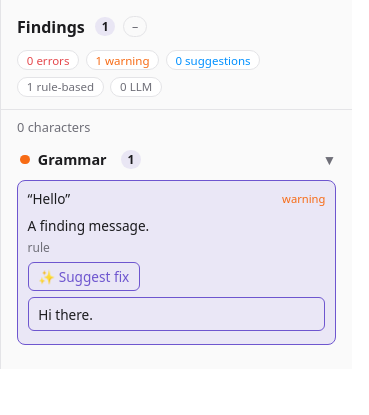
Test: Sidebar surfaces embed replacement failures (B43 C1) › a refused rewrite apply renders embedReplaceFailed instead
The width and height of the screenshot is (369, 415).
Click the button "Hi there." at (66, 314), box [28,297,325,331]
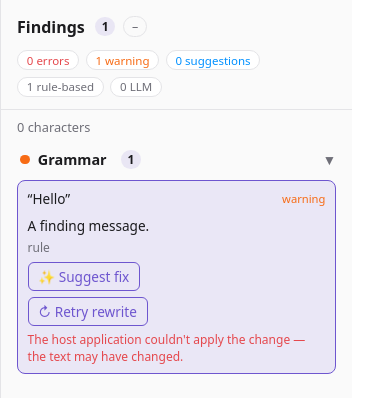
Check: the text "The host application couldn't apply the change — the text may have changed." is shown, box [28,331,325,365]
